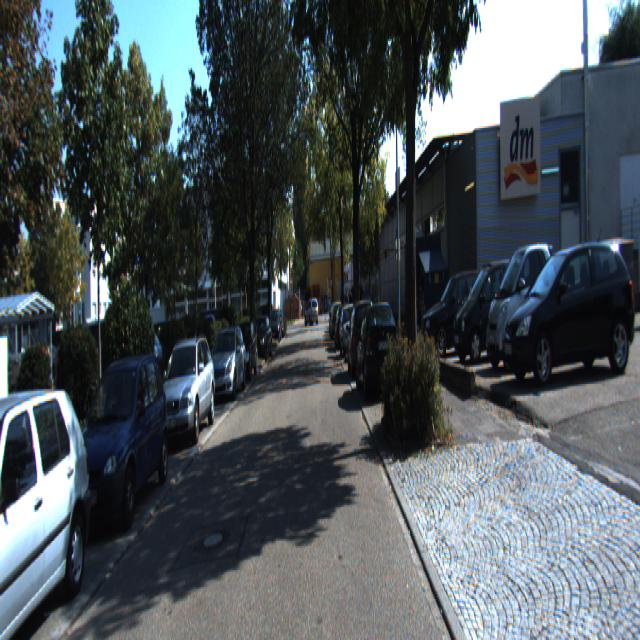Car: (0, 372, 101, 639), (500, 233, 640, 397), (66, 345, 173, 539), (482, 237, 569, 379), (450, 248, 536, 368), (152, 334, 216, 453), (420, 264, 496, 362), (354, 300, 401, 406), (206, 322, 247, 402), (347, 296, 378, 382)
